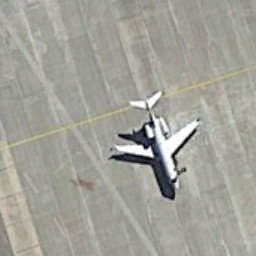Airplane: (93, 88, 211, 207)
